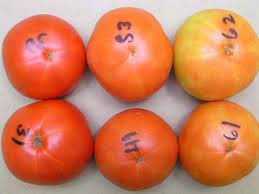tomato: (178, 6, 259, 100), (88, 7, 166, 95), (6, 13, 80, 99), (96, 105, 174, 181), (181, 102, 253, 181), (6, 106, 80, 174)
